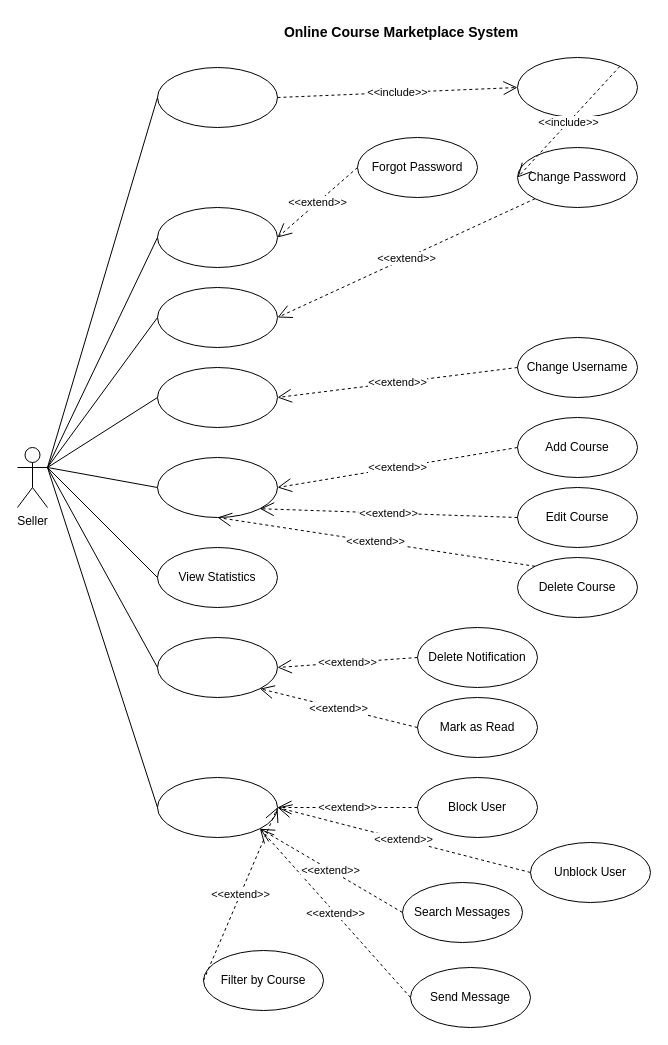
The diagram is 668 pixels wide and 1045 high, and some of its shapes have lost their labels. Each missing label, with the box of its shape:
Login: (156, 206, 278, 268)
Logout: (156, 286, 278, 348)
Manage Account: (156, 366, 278, 428)
Manage Courses: (156, 456, 278, 518)
Manage Messages: (156, 776, 278, 838)
Register: (156, 66, 278, 128)
Verify Email: (516, 56, 638, 118)
View Notifications: (156, 636, 278, 698)
